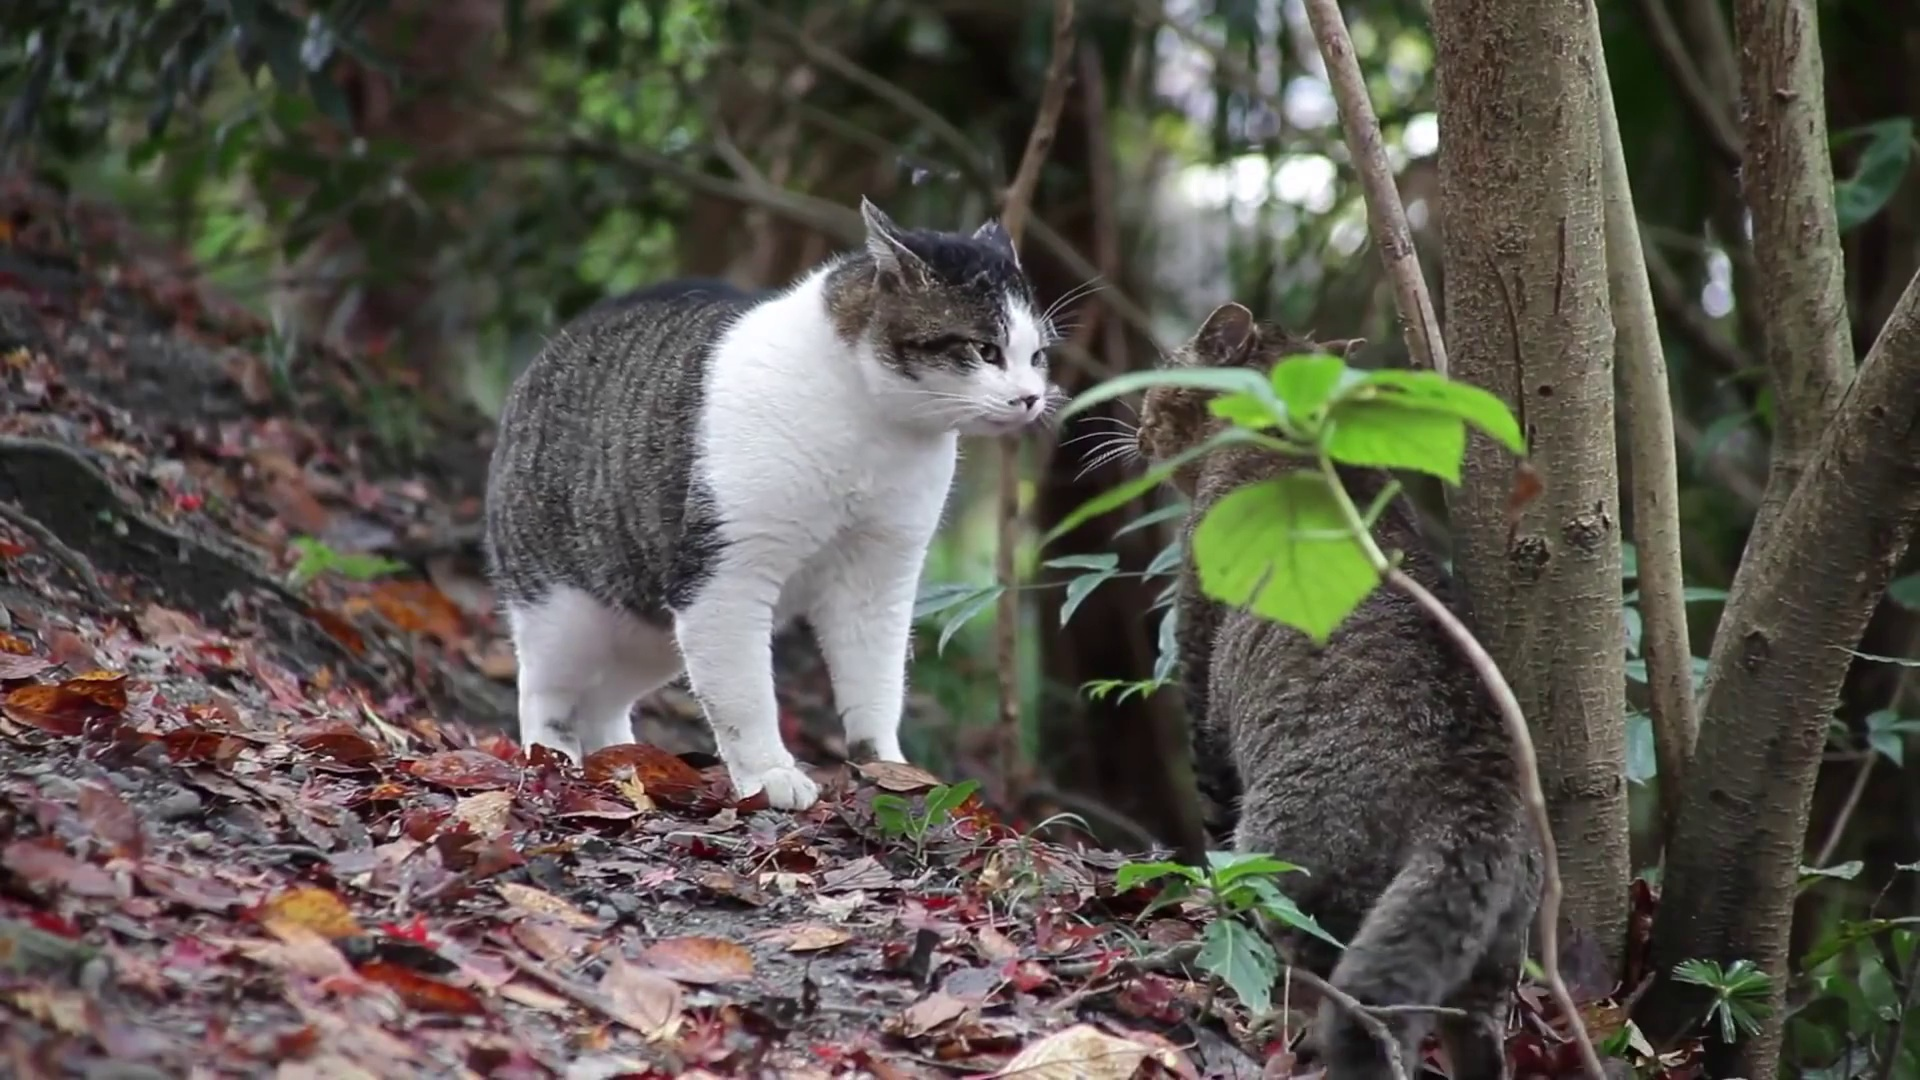black-white: (487, 193, 1052, 814)
pure black: (1134, 302, 1536, 1080)
